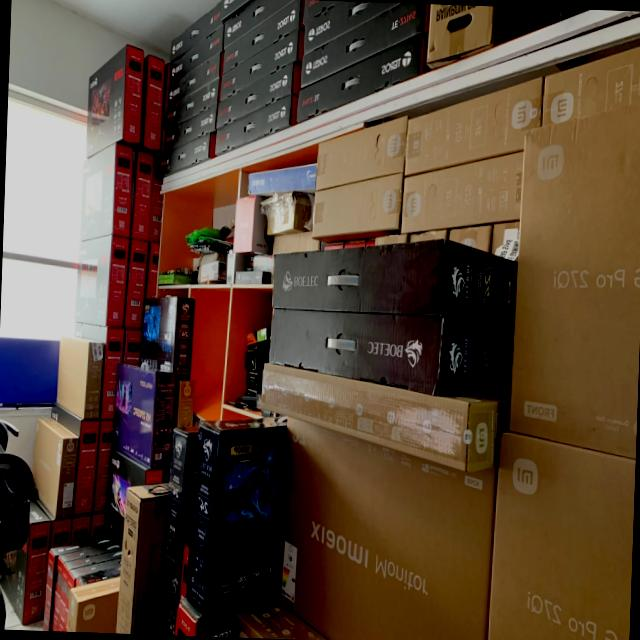caja-monitor: (276, 418, 495, 640), (509, 103, 640, 458), (489, 433, 635, 640), (273, 239, 516, 324), (185, 417, 286, 616), (406, 76, 542, 172), (296, 34, 427, 121), (301, 3, 425, 88), (401, 151, 523, 232), (115, 482, 169, 634), (41, 536, 114, 630), (316, 116, 407, 190), (87, 44, 144, 157), (113, 363, 174, 468), (0, 501, 50, 626), (313, 173, 402, 242), (216, 27, 300, 100), (51, 542, 120, 630), (222, 0, 301, 75), (50, 400, 99, 515), (106, 448, 162, 548), (216, 61, 300, 126), (81, 143, 135, 241), (211, 94, 296, 155), (303, 2, 396, 53), (76, 235, 128, 326), (32, 417, 78, 517), (139, 295, 194, 378), (57, 336, 105, 419), (169, 22, 223, 85), (222, 0, 290, 49), (169, 1, 223, 62), (167, 51, 221, 106), (66, 576, 119, 632), (164, 78, 219, 129), (159, 132, 215, 182), (163, 104, 216, 151), (140, 55, 165, 151), (130, 148, 153, 240), (93, 419, 114, 515), (147, 155, 162, 240), (176, 380, 195, 426)
